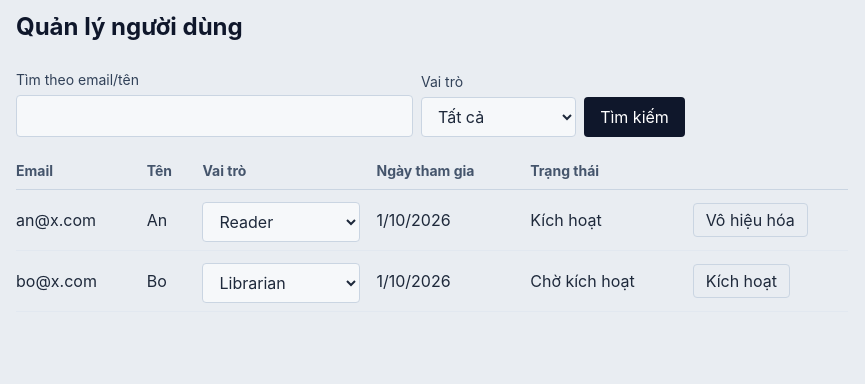
Scenario: Users › assigns a new role
This screenshot has width=865, height=384.
Select "Librarian" in the dropdown named "Vai trò của an@x.com": (282, 222) [202, 202, 360, 242]
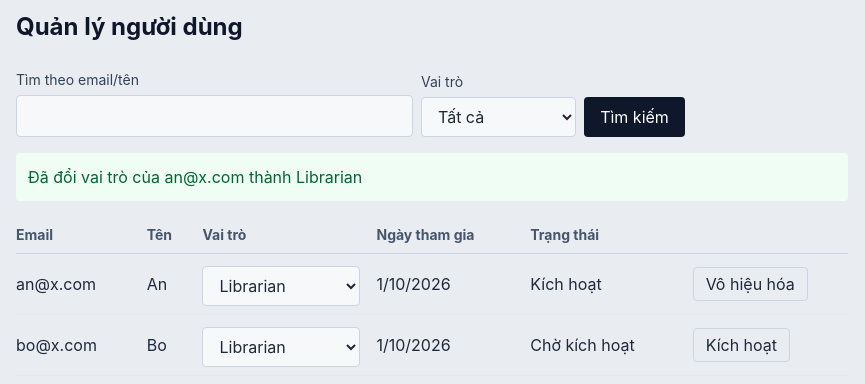
expect the message reads "Đã đổi vai trò của an@x.com thành Librarian": met, box [28, 167, 362, 187]
